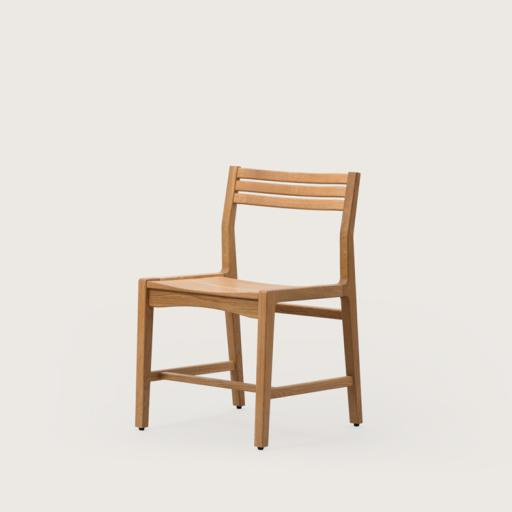chair: (122, 163, 385, 454)
